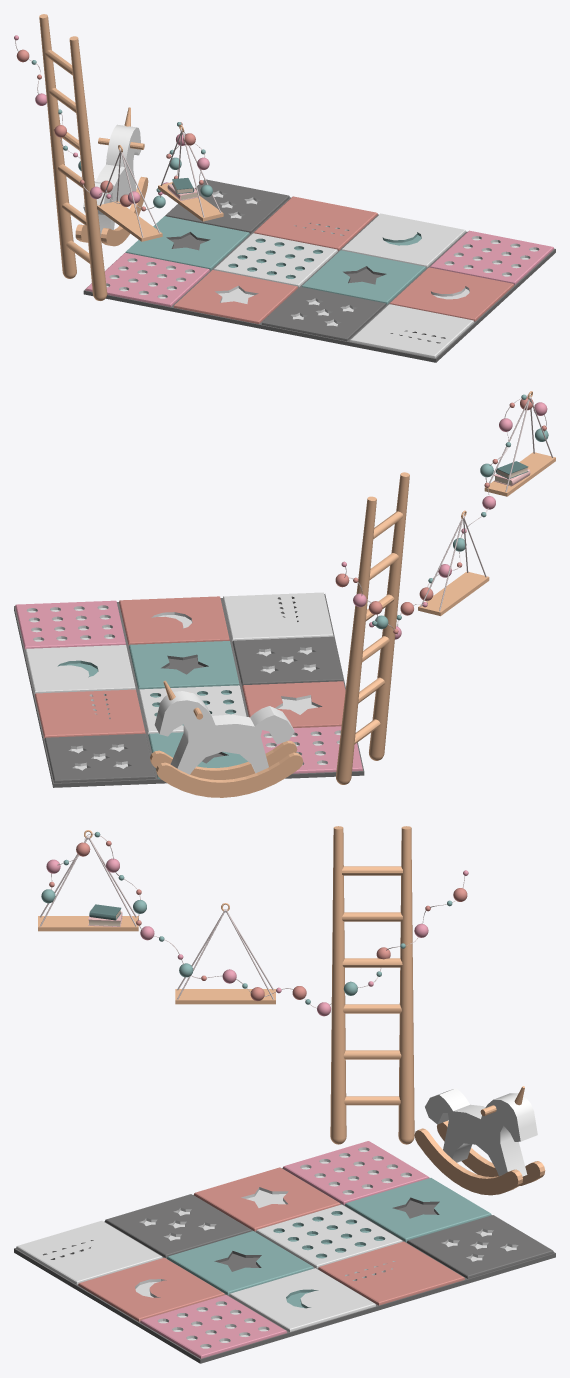
File: Furn5_playzone_color1_joined.fbx
3 views of the same model, one above another, from view 1: azimuth 30°, elevation 25°; view 2: azimuth 150°, elevation 25°; view 3: azimuth 270°, elevation 25° (orthographic). The views are drawn at different scales.
Visible parts, largest first — view 1: Плоскость.033; view 2: Плоскость.033; view 3: Плоскость.033.
Boxes of the visible parts, box(x1,y1,x2,y2) form: Плоскость.033: box(14, 14, 555, 362); Плоскость.033: box(14, 391, 555, 797); Плоскость.033: box(14, 826, 555, 1363).
Size of the model in its own units: 726 by 444 by 713.
